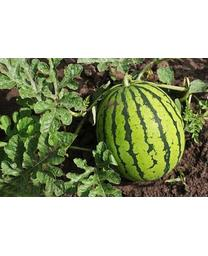watermelon: (92, 79, 186, 186)
